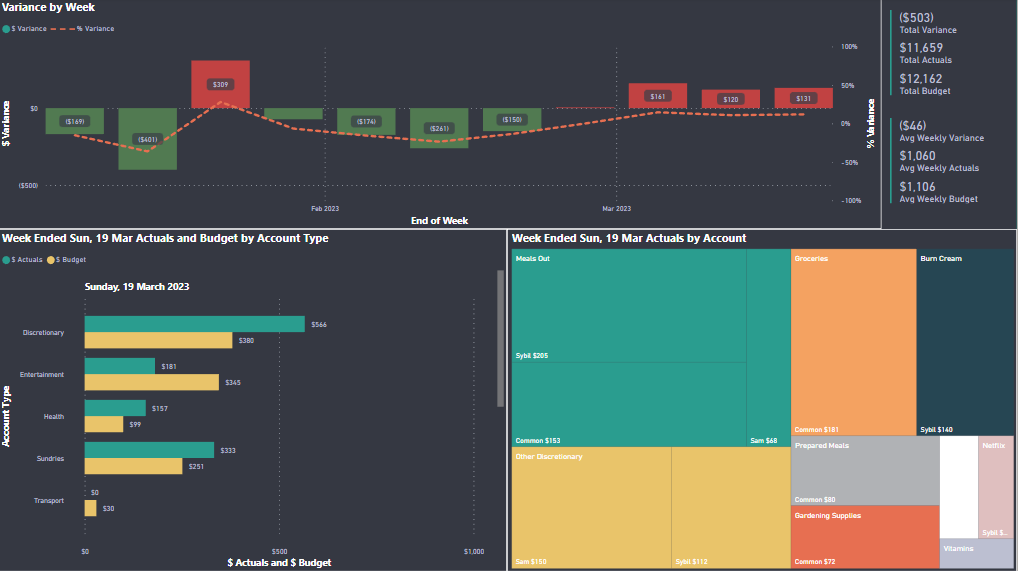

Layout of this report page (visuals, bound fields, positions):
{"tool":"powerbi","page":{"name":"Summary","canvas":[1280,720],"ordinal":0},"visuals":[{"type":"shape","title":"Card Background","box":[980.7,0,299.3,299.3],"z":0},{"type":"lineStackedColumnComboChart","title":"Variance by Week","fields":{"Category":["Date.End of Week"],"Y":["_measures.$ Variance"],"Y2":["_measures.% Variance"]},"box":[0,0,1110,290],"z":1000},{"type":"clusteredBarChart","fields":{"Y":["_measures.$ Actuals (Latest Week)","_measures.$ Budget (Latest Week)"],"Category":["Account.Account Type"],"Rows":["Date.End of Week"]},"box":[0,290,640.2,430],"z":2000},{"type":"treemap","fields":{"Group":["Account.Account"],"Details":["Account.Account Owner"],"Values":["_measures.$ Actuals (Selected Week)"]},"box":[640.5,290.1,639.5,430.2],"z":3000},{"type":"multiRowCard","title":"Avg Weekly","fields":{"Values":["_measures.Avg Weekly Variance","_measures.Avg Weekly Actuals","_measures.Avg Weekly Budget"]},"box":[1115.3,145,155,125],"z":5000},{"type":"multiRowCard","title":"Total Weekly","fields":{"Values":["_measures.$ Variance","_measures.$ Actuals","_measures.$ Budget"]},"box":[1115.3,10,155,125],"z":5500}]}

Visuals, with their boxes in screenshot pixels (x1, y1, x2, y2), scaled from the page's 1280x720 canvas onto the 1018x571 screenshot:
"Card Background" shape: 780 0 1017 237
"Variance by Week" lineStackedColumnComboChart: 0 0 883 230
clusteredBarChart - _measures.$ Actuals (Latest Week) x _measures.$ Budget (Latest Week): 0 230 509 570
treemap - Account.Account x Account.Account Owner: 509 230 1017 570
"Avg Weekly" multiRowCard: 887 115 1010 214
"Total Weekly" multiRowCard: 887 8 1010 107
